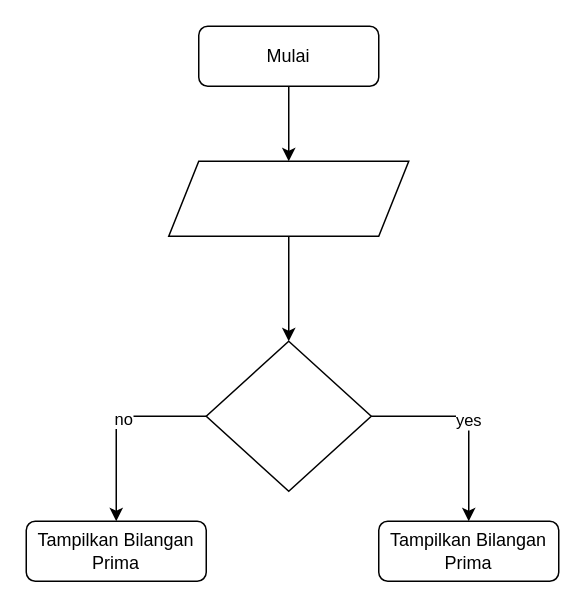
This 585x608 diagram has some shape labels left out. Here are the shapes that lost their labels. From the top down, the box of each, then its label:
(167, 160, 409, 236): Masukan Bilangan (n)
(205, 340, 371, 491): Apakah n <=1 ?
